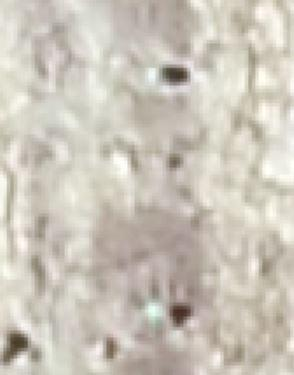cotton: (148, 301, 166, 329)
